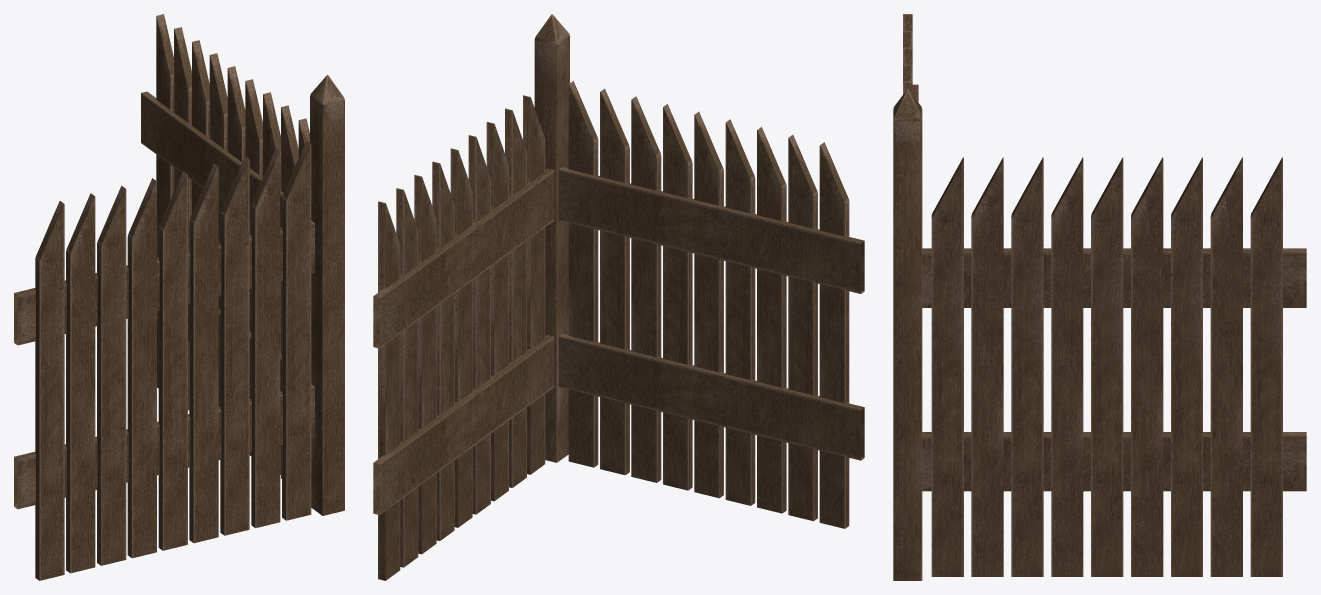
File: Fence_Corner.fbx
The picture shows the model from 3 angles, left to right: view 1: azimuth 30°, elevation 25°; view 2: azimuth 150°, elevation 25°; view 3: azimuth 270°, elevation 25°; orthographic projection. The views are drawn at different scales.
Visible parts, largest first — view 1: Fence_Corner; view 2: Fence_Corner; view 3: Fence_Corner.
Part boxes in pixels (x1,y1,x2,y2): Fence_Corner: (14,14,344,580); Fence_Corner: (373,14,864,580); Fence_Corner: (893,14,1306,580).
Size of the model in its own units: 2.07 by 2.69 by 2.07.
